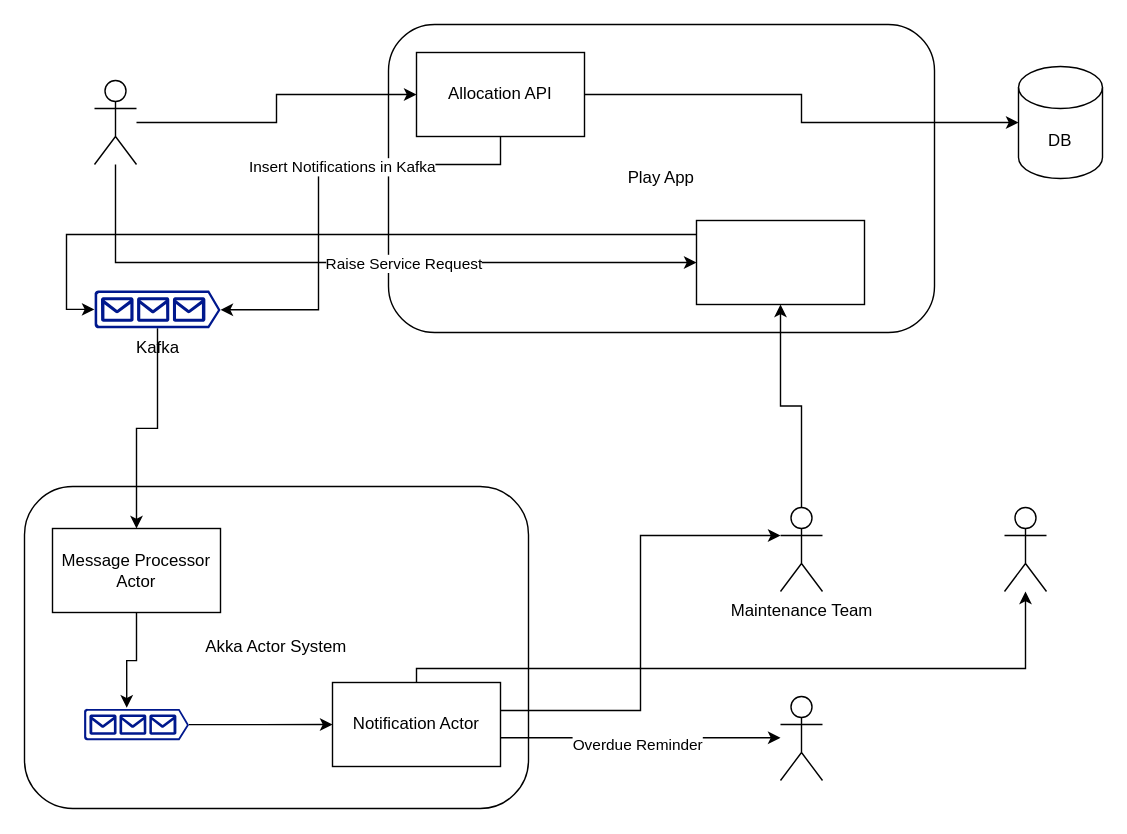
This 1127x834 diagram has some shape labels left out. Here are the shapes that lost their labels. From the top down, the centre of each, then its label:
the point at 114,121: Reception Staff
the point at 779,261: Service API
the point at 1024,549: Inventory Team
the point at 800,737: Employee
